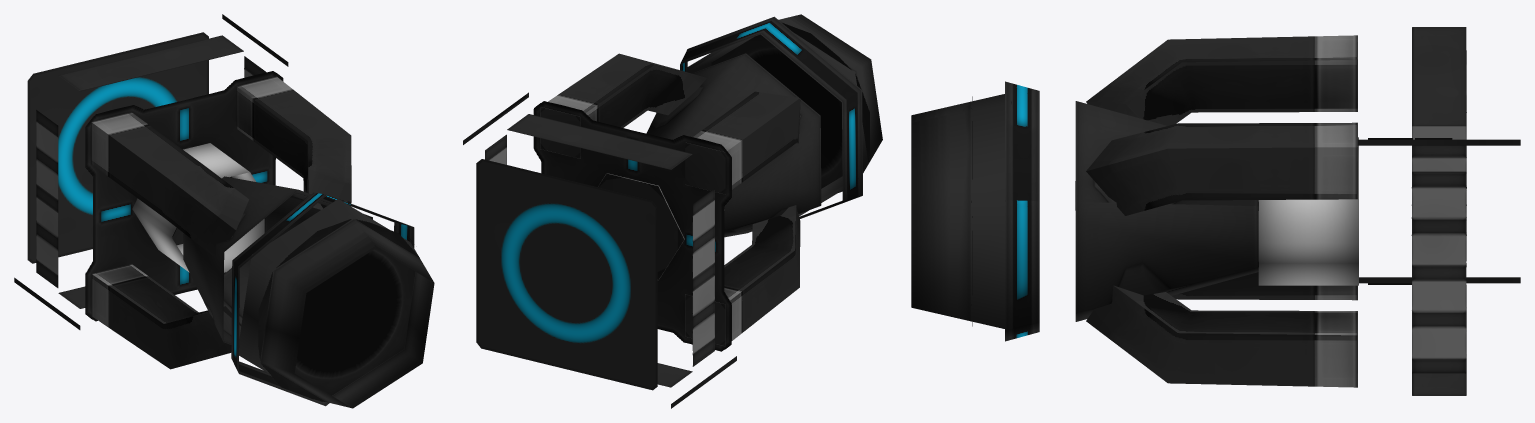
Rendered from obj_interactive_thruster_04_lod1.fbx.
3 views of the same model, side by side, from view 1: azimuth 30°, elevation 25°; view 2: azimuth 150°, elevation 25°; view 3: azimuth 270°, elevation 25° (orthographic). The views are drawn at different scales.
Parts seen in each view (by area): view 1: pCylinder6; view 2: pCylinder6; view 3: pCylinder6.
Boxes of the visible parts, x1,y1,x2,y2 form: pCylinder6: [14, 14, 434, 408]; pCylinder6: [463, 14, 882, 408]; pCylinder6: [911, 27, 1520, 395].
Size of the model in its own units: 2 by 2 by 4.1.
1 material, 1 textured.
